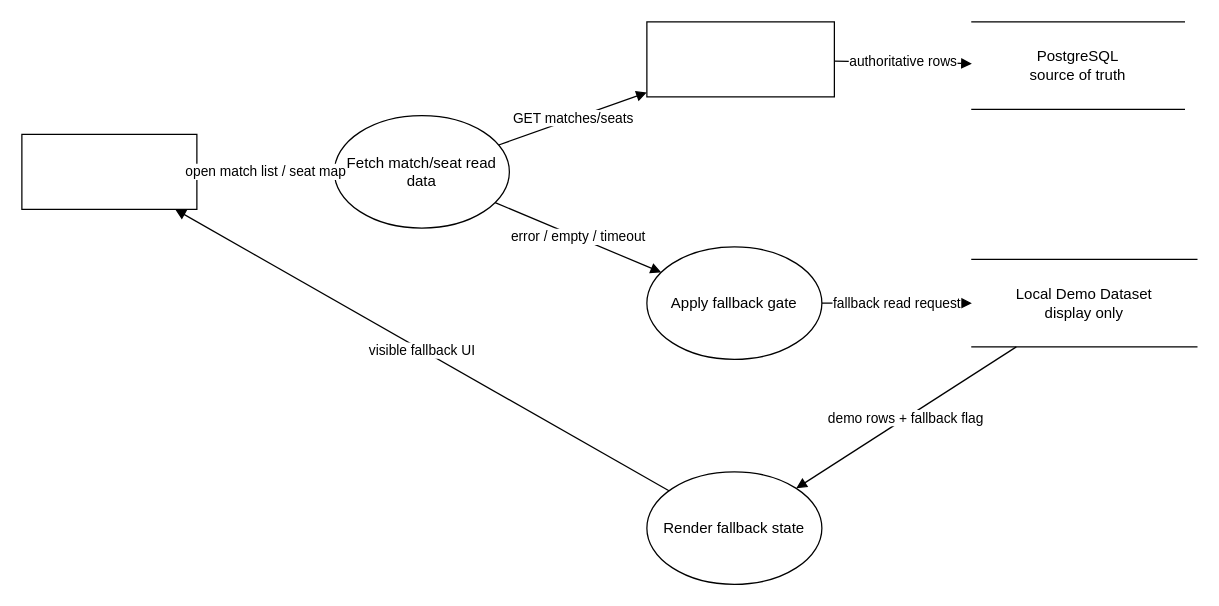
The diagram is 1219 pixels wide and 606 high, and some of its shapes have lost their labels. The shapes that lost their labels are listed below. From the top down, each one's box as (x1, y1, x2, y2) in pixels, then its label:
(646, 21, 834, 97): Backend API
(21, 133, 197, 209): Football Fan
